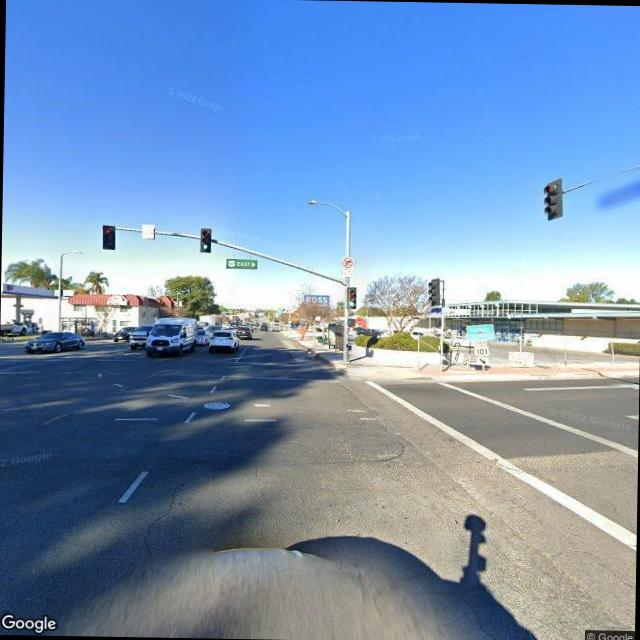crack: (136, 474, 190, 562)
